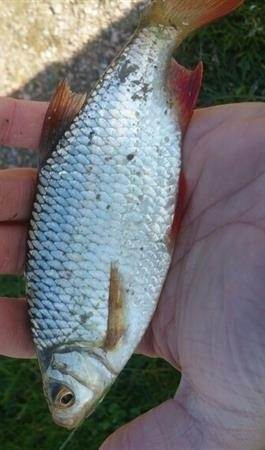Scardinius erythrophthalmus: (20, 1, 245, 433)
